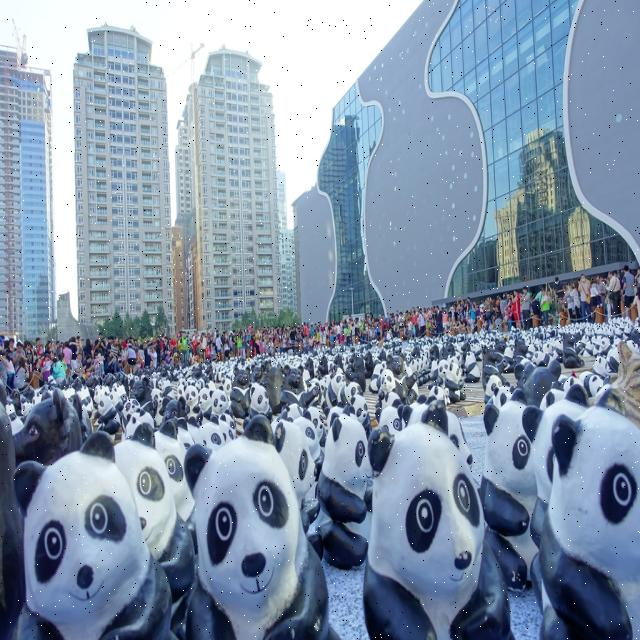panda: (0, 344, 640, 639), (14, 430, 170, 640)
